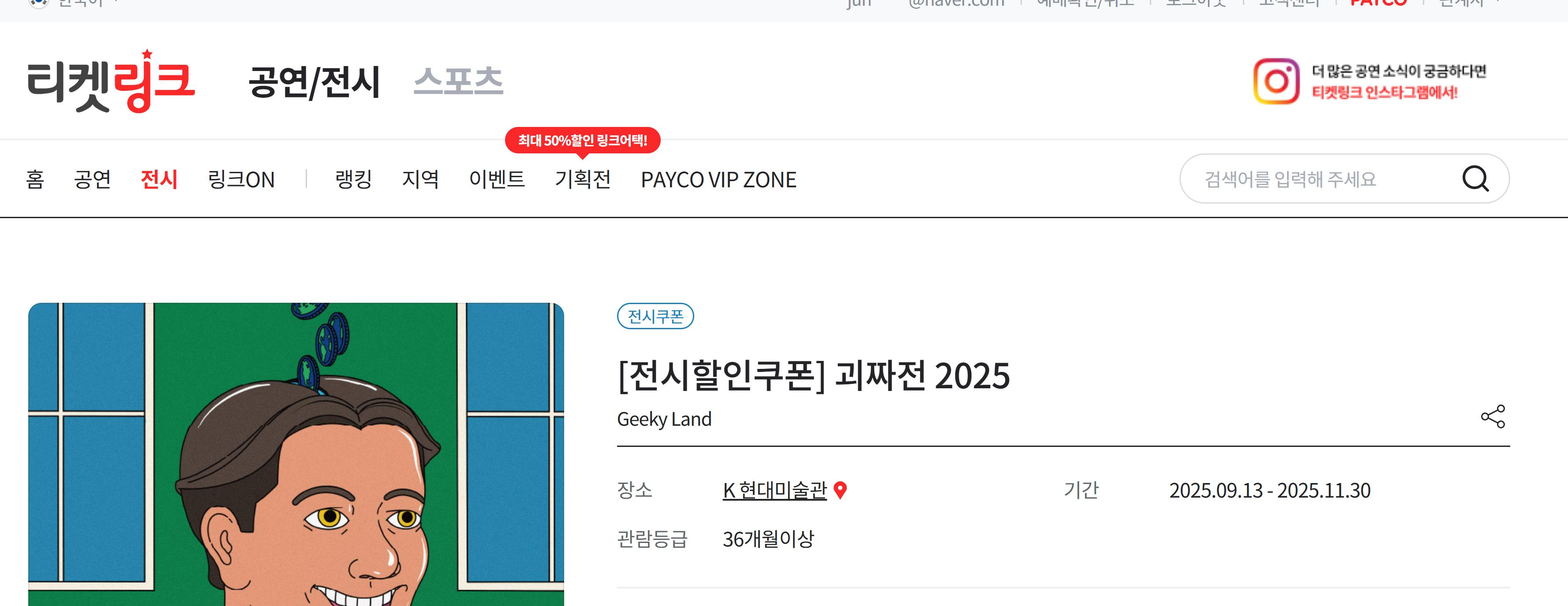button: (233, 45, 393, 117), (408, 42, 516, 115), (635, 162, 813, 203), (203, 155, 283, 204), (1464, 386, 1522, 439), (399, 148, 450, 207), (551, 162, 621, 204), (466, 160, 530, 205), (66, 159, 125, 207), (329, 152, 380, 203), (13, 156, 56, 207), (135, 160, 187, 199)
input_field: (1167, 141, 1514, 218)
popup: (1234, 36, 1508, 120), (497, 121, 668, 160)
